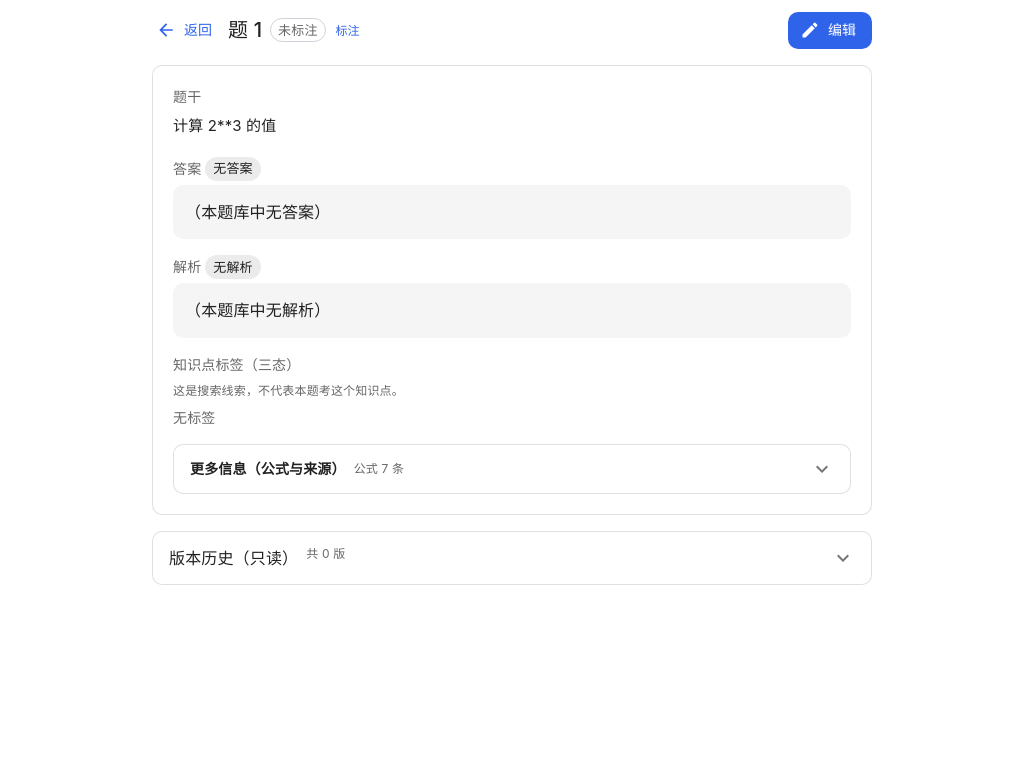
Test: 非正常状态中文显示，空/未知需核对；OK保持安静而不宣称内容正确
Expected: the heading "题 1" is shown, [228, 14, 262, 46]
B2 §3.4：公式列表默认折叠在「更多信息」里，展开后再断言状态文案。
Click the text "更多信息（公式与来源）".
click(268, 469)  # box [190, 459, 346, 479]
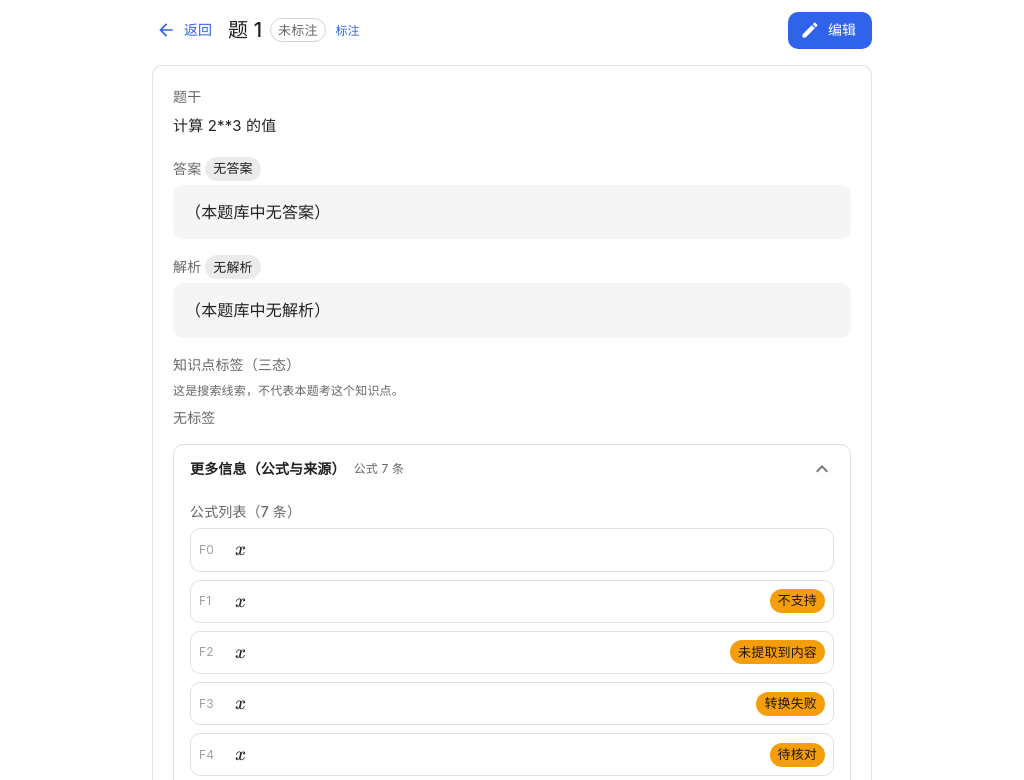
Result: the text "不支持" is shown at [778, 592, 817, 608]
Result: the text "未提取到内容" is shown at [738, 644, 817, 660]
Result: the text "转换失败" is shown at [764, 695, 817, 711]
